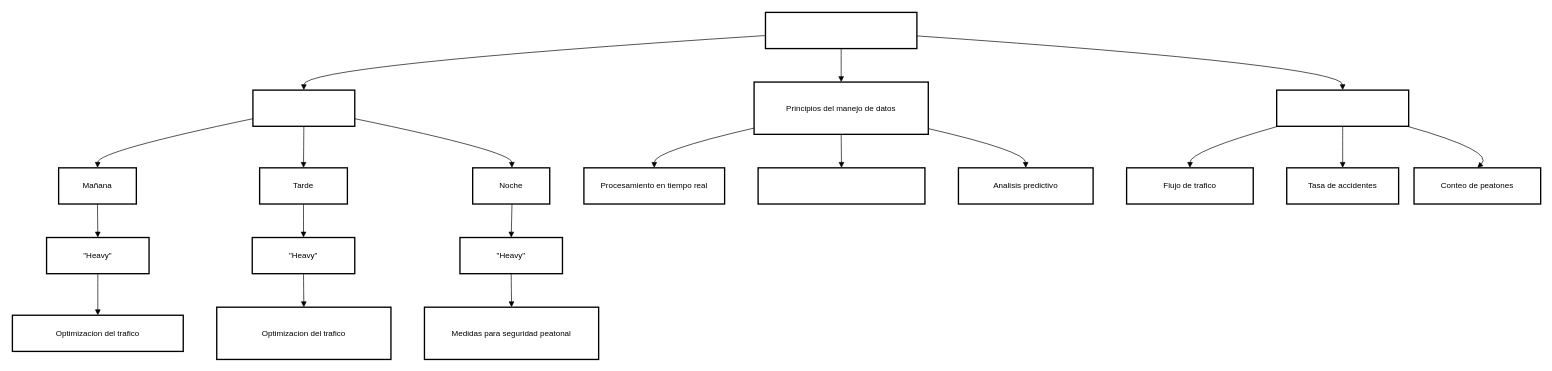
This 1552x371 diagram has some shape labels left out. Each missing label, with the centre of its shape:
"Metricos de correlacion" belongs at (x=1342, y=108).
"Retroalimentacion integrada del usuario" belongs at (x=841, y=185).
"Sistema del semaforo inteligente" belongs at (x=840, y=30).
"Tiempo" belongs at (x=303, y=108).
